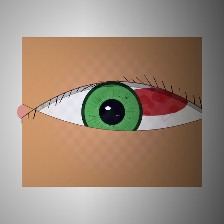hemorrhage_spot: (101, 62, 201, 142)
